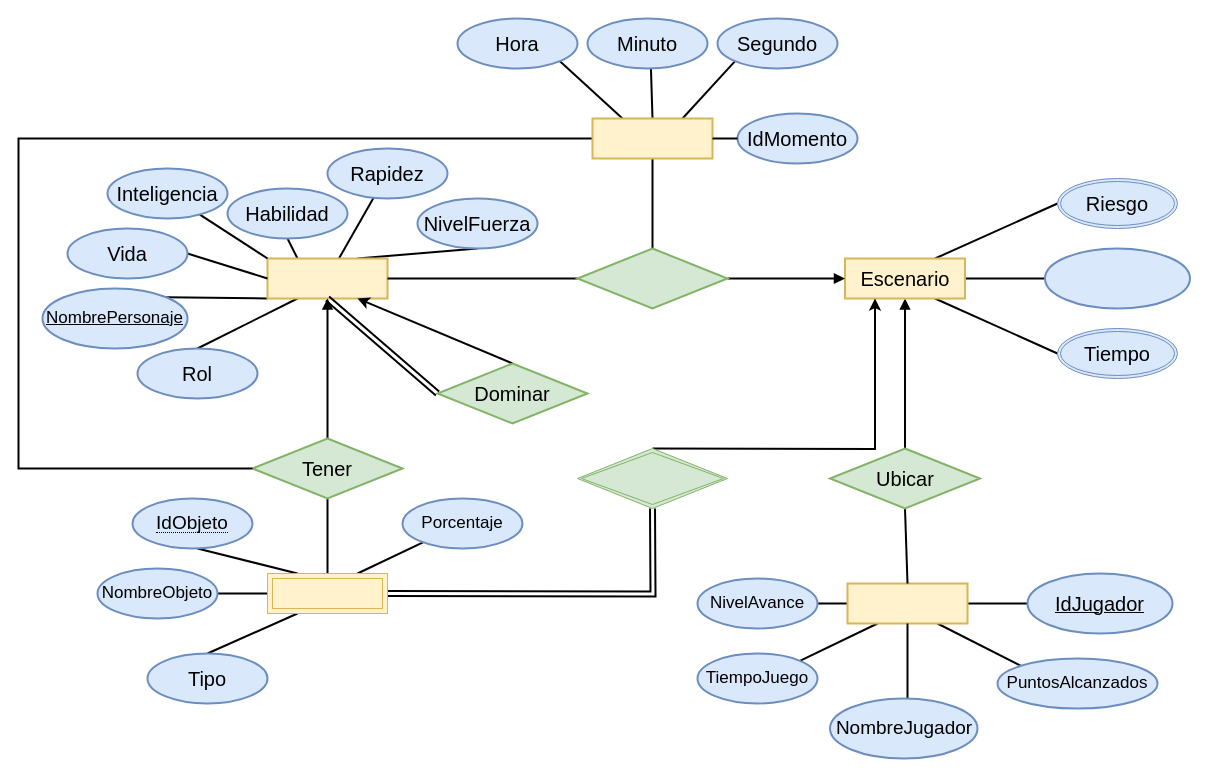
The diagram is 1208 pixels wide and 776 high, and some of its shapes have lost their labels. Each missing label, with the box of its shape:
Contener: (576, 448, 728, 508)
Encontrar: (576, 247, 728, 309)
IdEscenario: (1044, 247, 1190, 309)
Jugador: (846, 582, 968, 624)
Momento: (591, 117, 713, 159)
Objeto: (266, 572, 388, 614)
Personaje: (266, 257, 388, 299)
